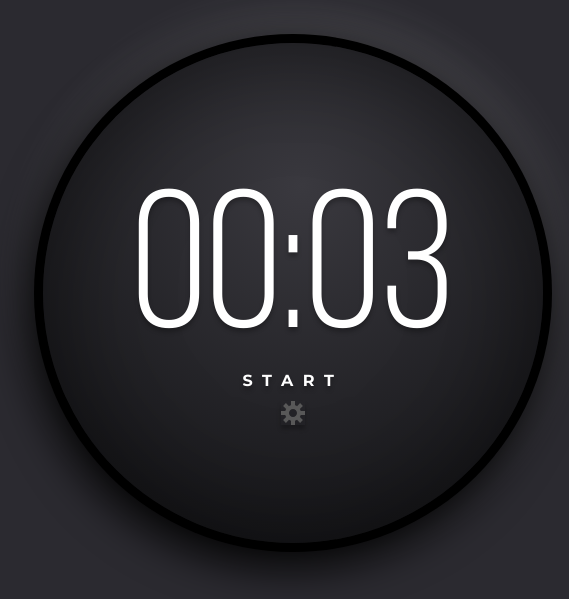
Test: Переключение кнопок › При нажатии на кнопку "Start", на ее месте появляется кнопка "Stop"
The image size is (569, 599).
Click the button with test id "button-start-toggle". click: (293, 381)
box: [242,371,344,391]
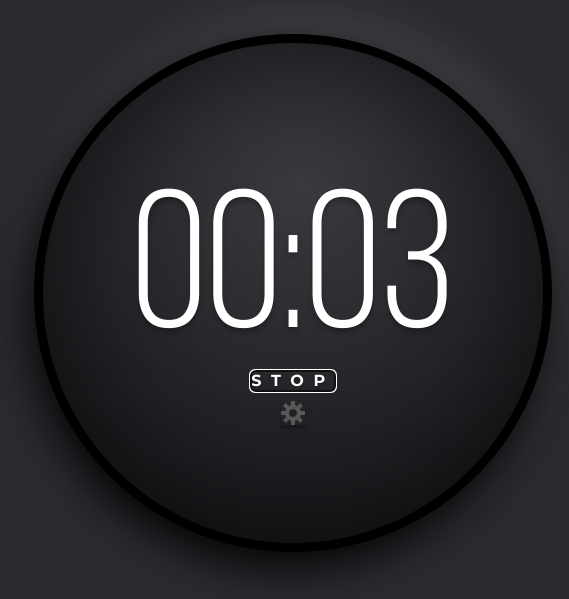
Result: the button with test id "button-start-toggle" reads "Stop" at [251,371,335,391]
